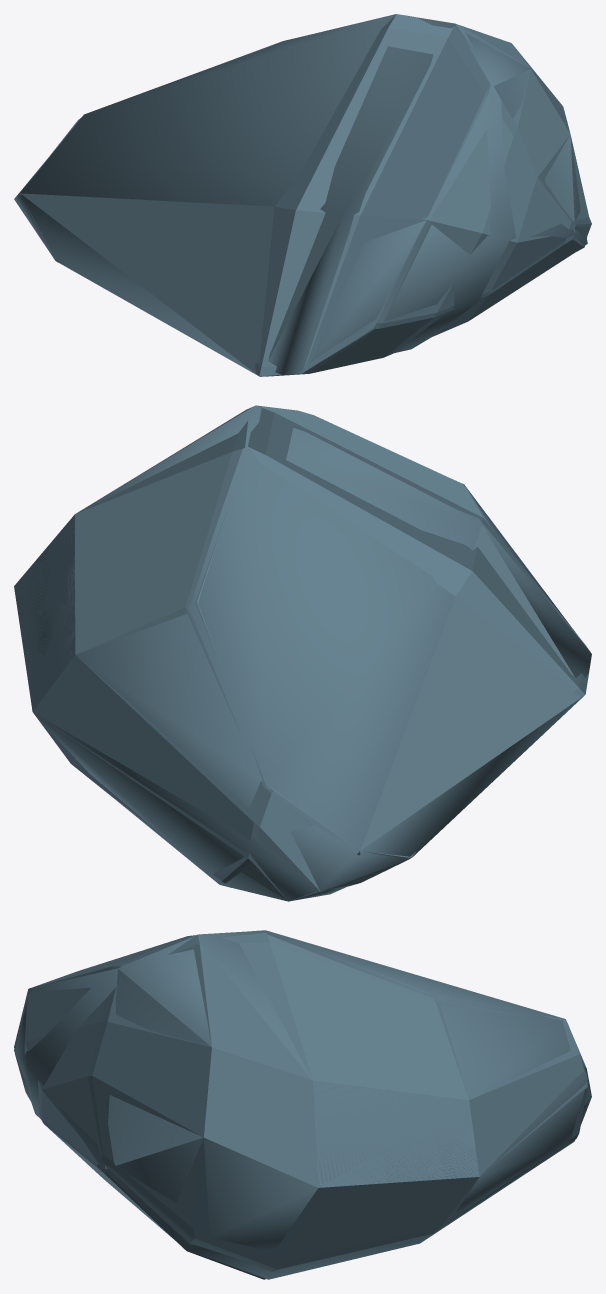
The model's file is rocks_round_C.fbx.
The picture shows the model from 3 angles, top to bottom: view 1: azimuth 30°, elevation 25°; view 2: azimuth 150°, elevation 25°; view 3: azimuth 270°, elevation 25°; orthographic projection. The views are drawn at different scales.
Parts seen in each view (by area): view 1: c_ROCKSROUND_C, ROCKSROUND_C; view 2: c_ROCKSROUND_C, ROCKSROUND_C; view 3: ROCKSROUND_C, c_ROCKSROUND_C.
Boxes of the visible parts, x1,y1,x2,y2 form: c_ROCKSROUND_C: (14, 14, 587, 376); ROCKSROUND_C: (19, 14, 591, 376); c_ROCKSROUND_C: (14, 405, 591, 901); ROCKSROUND_C: (14, 406, 590, 900); ROCKSROUND_C: (14, 930, 591, 1279); c_ROCKSROUND_C: (14, 930, 591, 1279).
Size of the model in its own units: 88.72 by 54.63 by 98.89.
